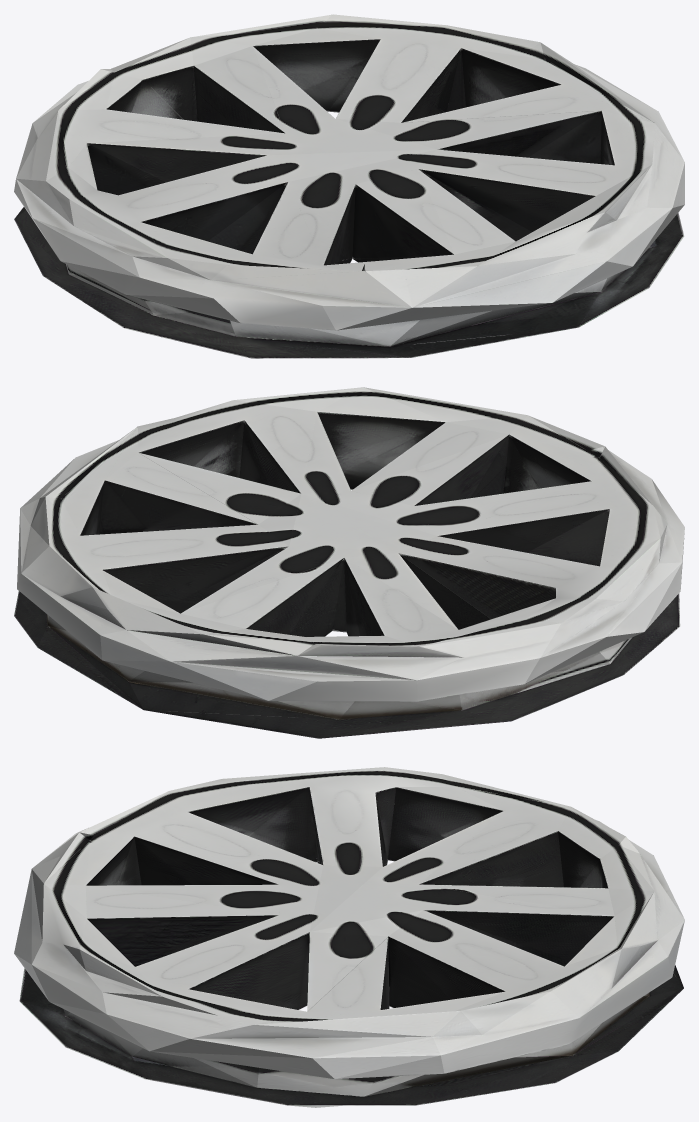
The model's file is ENV_FloorDrain.fbx.
3 renders of one model, top to bottom at view 1: azimuth 30°, elevation 25°; view 2: azimuth 150°, elevation 25°; view 3: azimuth 270°, elevation 25°, orthographic.
Visible parts, largest first — view 1: Mesh_0; view 2: Mesh_0; view 3: Mesh_0.
Part boxes in pixels (box(x1,y1,x2,y2)): Mesh_0: box(14, 14, 684, 358); Mesh_0: box(14, 387, 684, 738); Mesh_0: box(14, 767, 684, 1107).
Size of the model in its own units: 190 by 28.46 by 189.
1 material, 1 textured.
